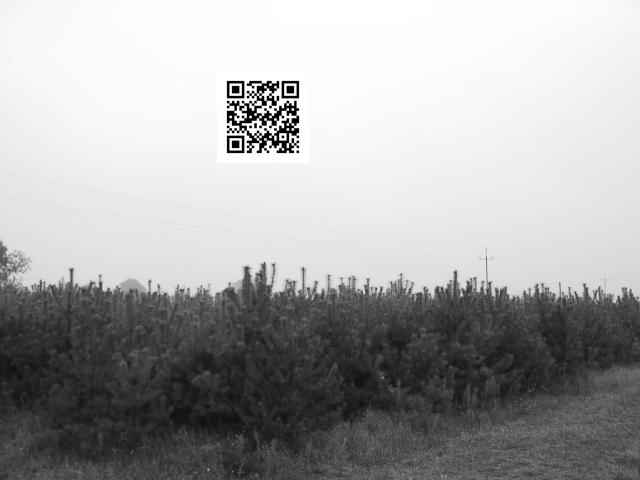qr_code: (218, 69, 307, 162)
